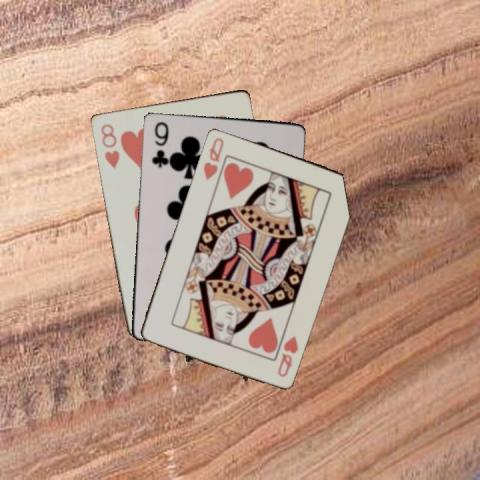8h: (97, 120, 121, 170)
9c: (148, 118, 168, 169)
Qh: (200, 134, 225, 181), (274, 333, 299, 378)
